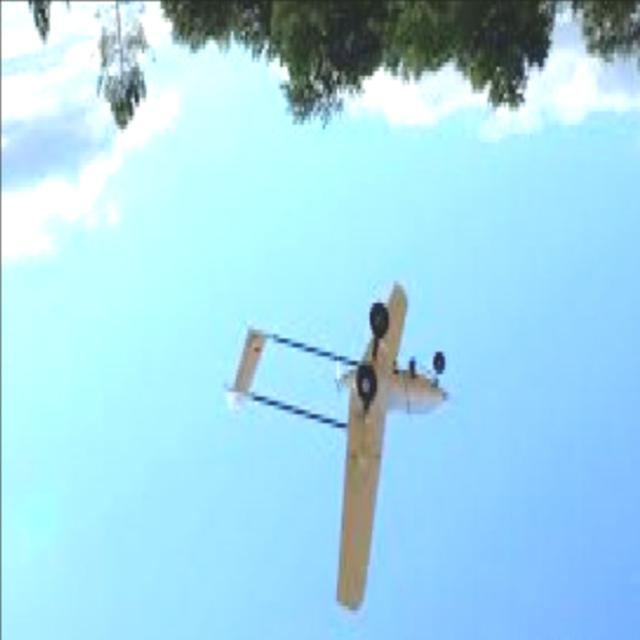plane: (222, 280, 455, 618)
